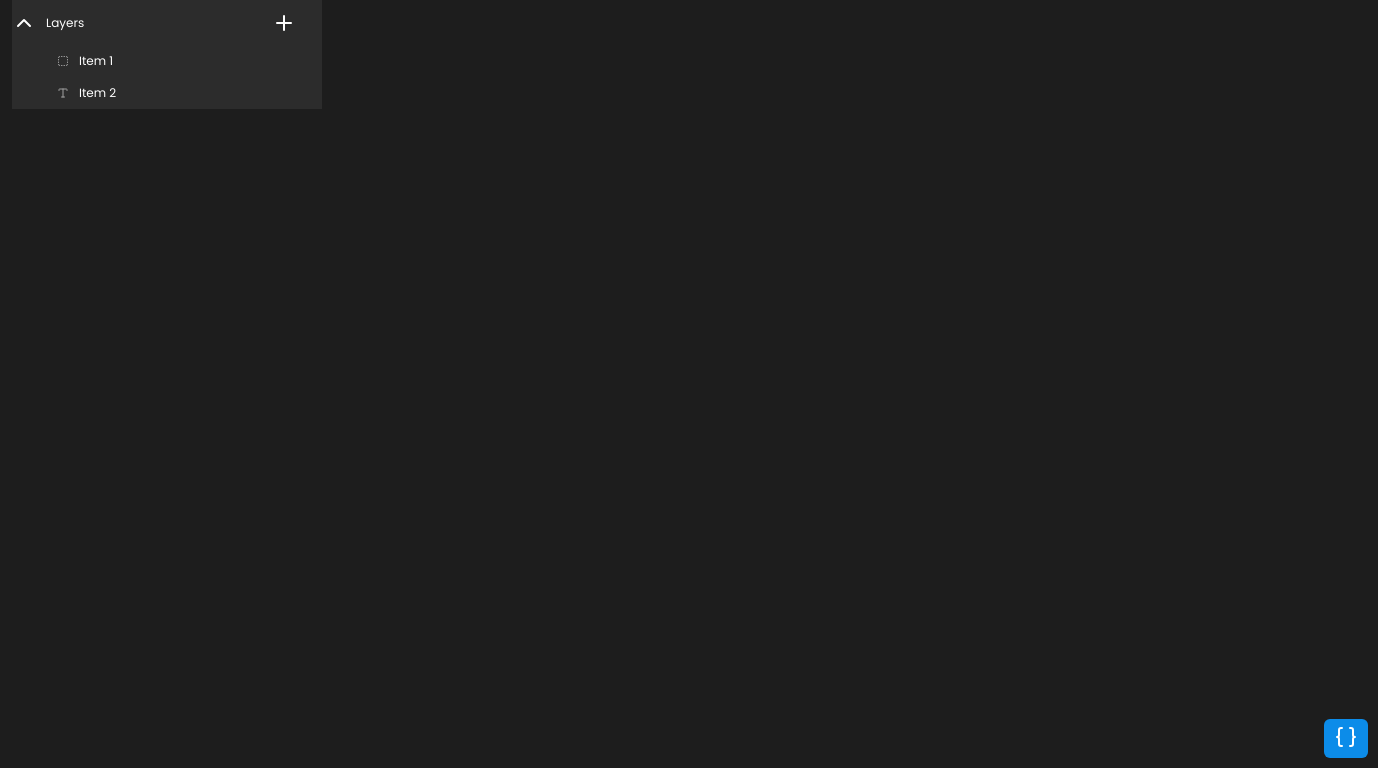
NestedMenu Interactions › clicking code buttomon opens code window
Expected: the text "JSON" is not shown
Click the button with test id "json-button" at point(1346, 738), box [1324, 719, 1368, 758]
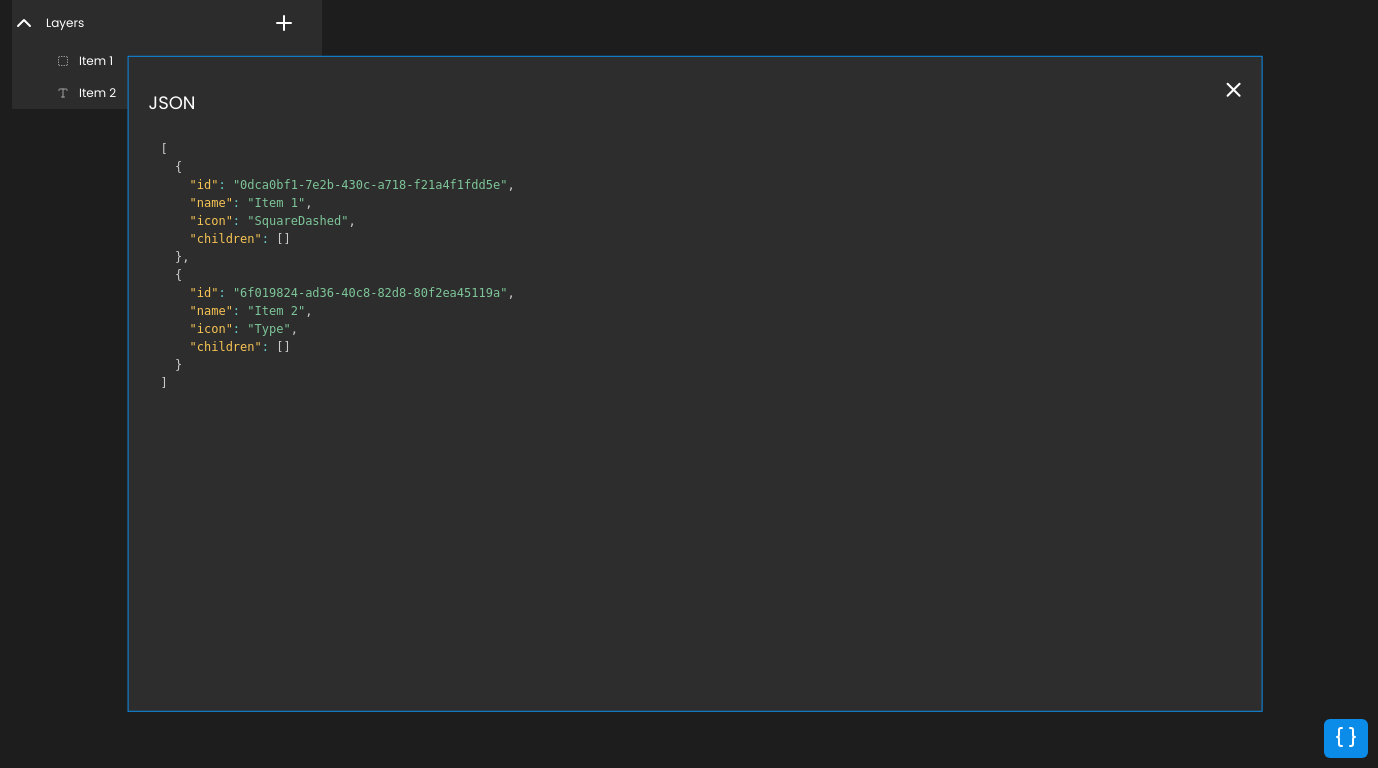
Now the heading "JSON" is shown, box [149, 90, 196, 115]
